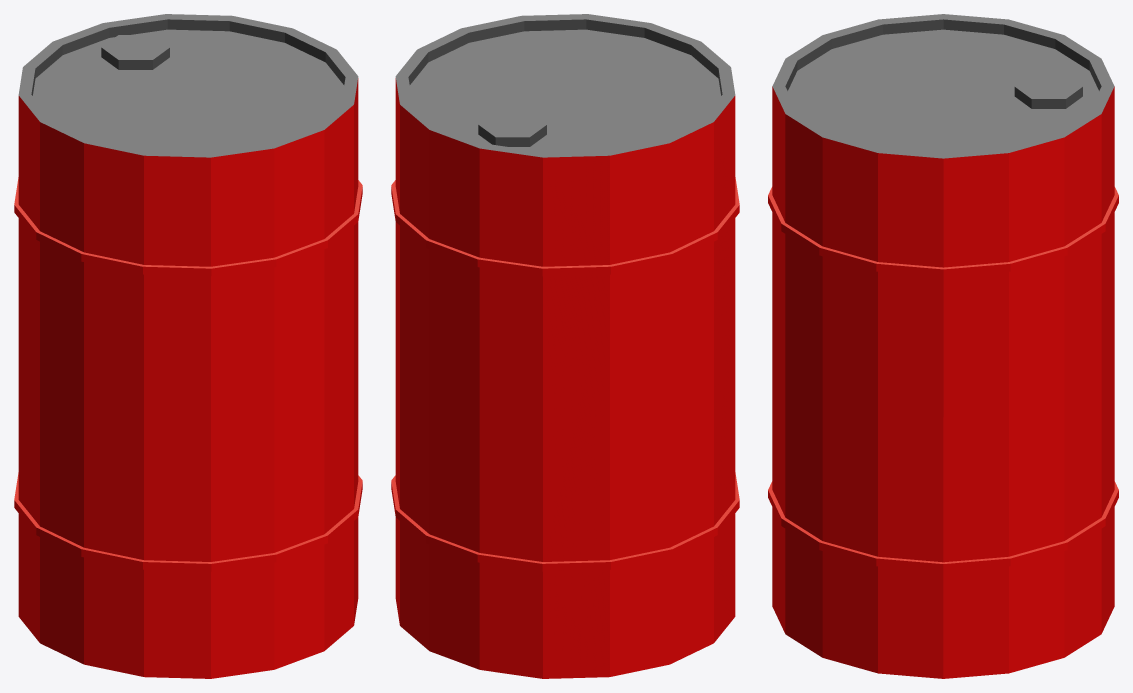
Rendered from TA-Sm_metalBarrel.fbx.
3 renders of one model, left to right at view 1: azimuth 30°, elevation 25°; view 2: azimuth 150°, elevation 25°; view 3: azimuth 270°, elevation 25°, orthographic.
Visible parts, largest first — view 1: Cylinder; view 2: Cylinder; view 3: Cylinder.
Boxes of the visible parts, box(x1,y1,x2,y2) form: Cylinder: box(14, 14, 362, 678); Cylinder: box(391, 14, 739, 678); Cylinder: box(768, 14, 1118, 678).
Bounding box in the file's own units: 0.55 × 0.9 × 0.55.
Materials: 1 (1 with a texture image).
